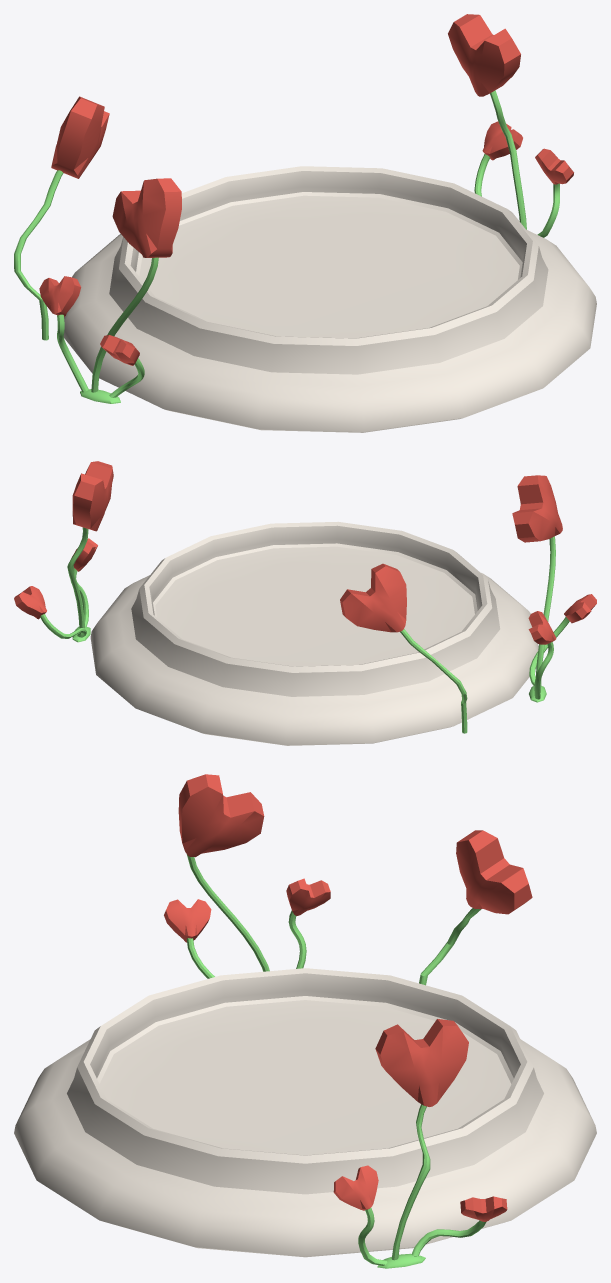
The model's file is heal_Platform002.fbx.
The picture shows the model from 3 angles, top to bottom: view 1: azimuth 30°, elevation 25°; view 2: azimuth 150°, elevation 25°; view 3: azimuth 270°, elevation 25°; orthographic projection. The views are drawn at different scales.
Parts seen in each view (by area): view 1: HP.001; view 2: HP.001; view 3: HP.001.
Boxes of the visible parts, x1=… form: HP.001: x1=14, y1=14, x2=596, y2=432; HP.001: x1=14, y1=461, x2=596, y2=745; HP.001: x1=14, y1=774, x2=596, y2=1268.
Size of the model in its own units: 267 by 108 by 227.
